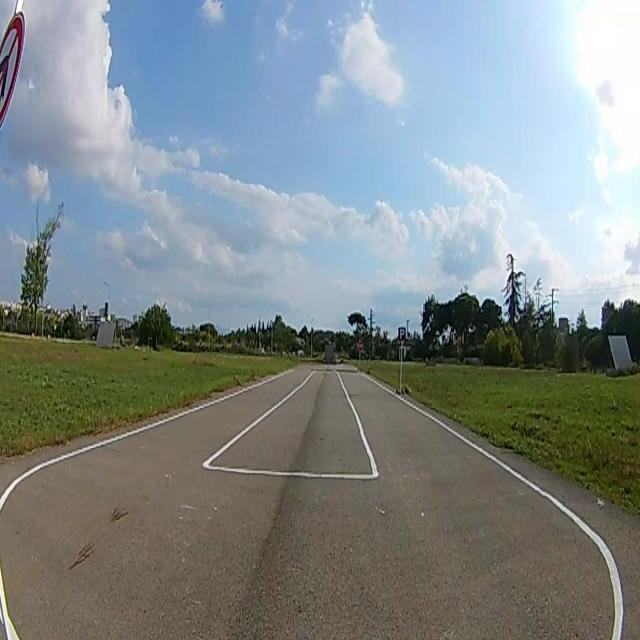park: (398, 327, 406, 341)
